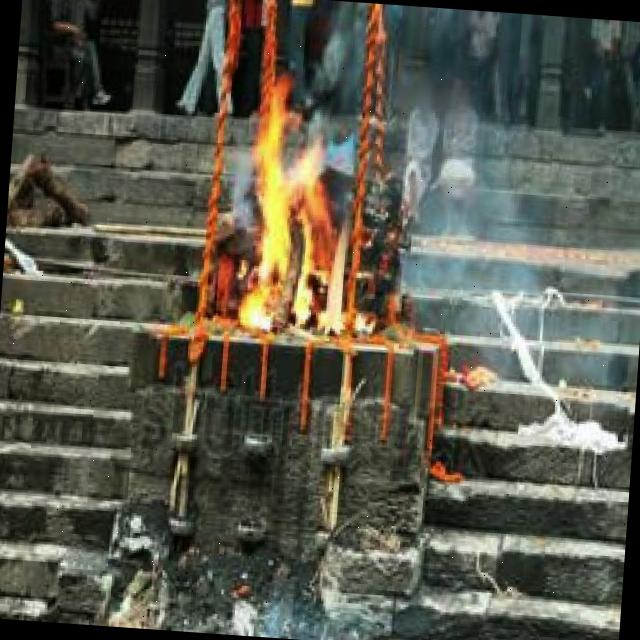fire: (241, 78, 365, 338)
